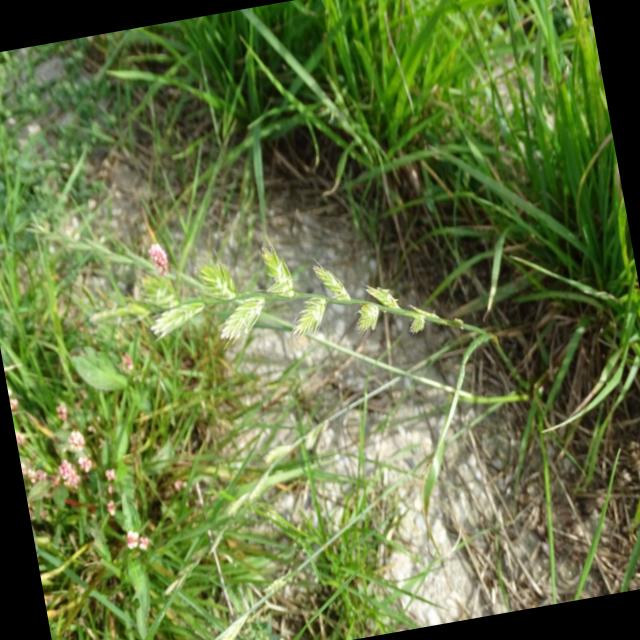Lolium: (37, 124, 604, 488), (150, 200, 546, 422)
